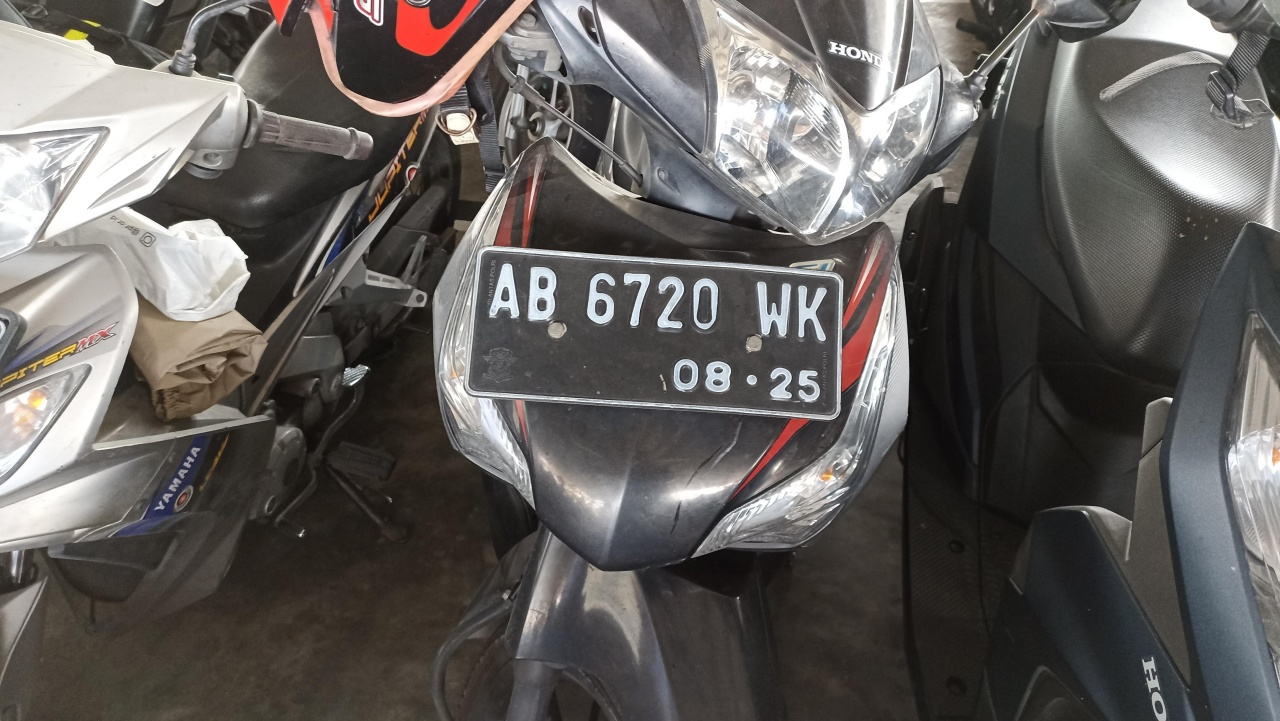plate: (464, 247, 844, 420)
